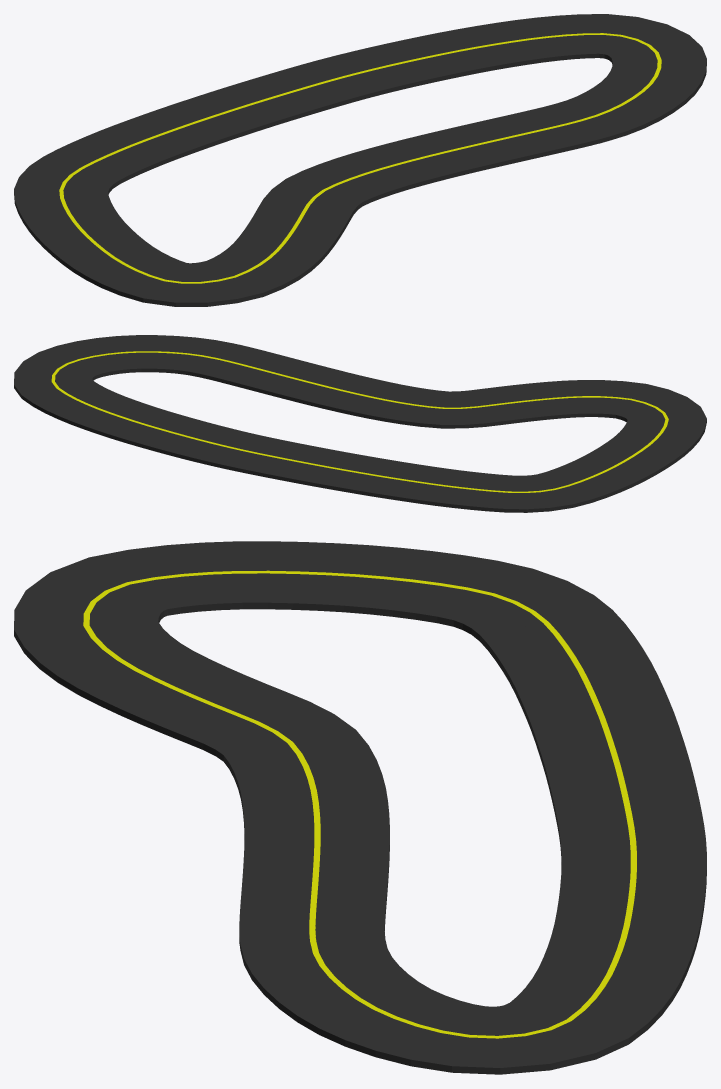
The model's file is track.dae.
The picture shows the model from 3 angles, top to bottom: view 1: azimuth 30°, elevation 25°; view 2: azimuth 150°, elevation 25°; view 3: azimuth 270°, elevation 25°; orthographic projection. The views are drawn at different scales.
Parts seen in each view (by area): view 1: Cube; view 2: Cube; view 3: Cube.
Part boxes in pixels (x1,y1,x2,y2): Cube: (14, 14, 706, 306); Cube: (14, 335, 706, 512); Cube: (14, 541, 706, 1074).
Size of the model in its own units: 8.57 by 4.76 by 0.05.
